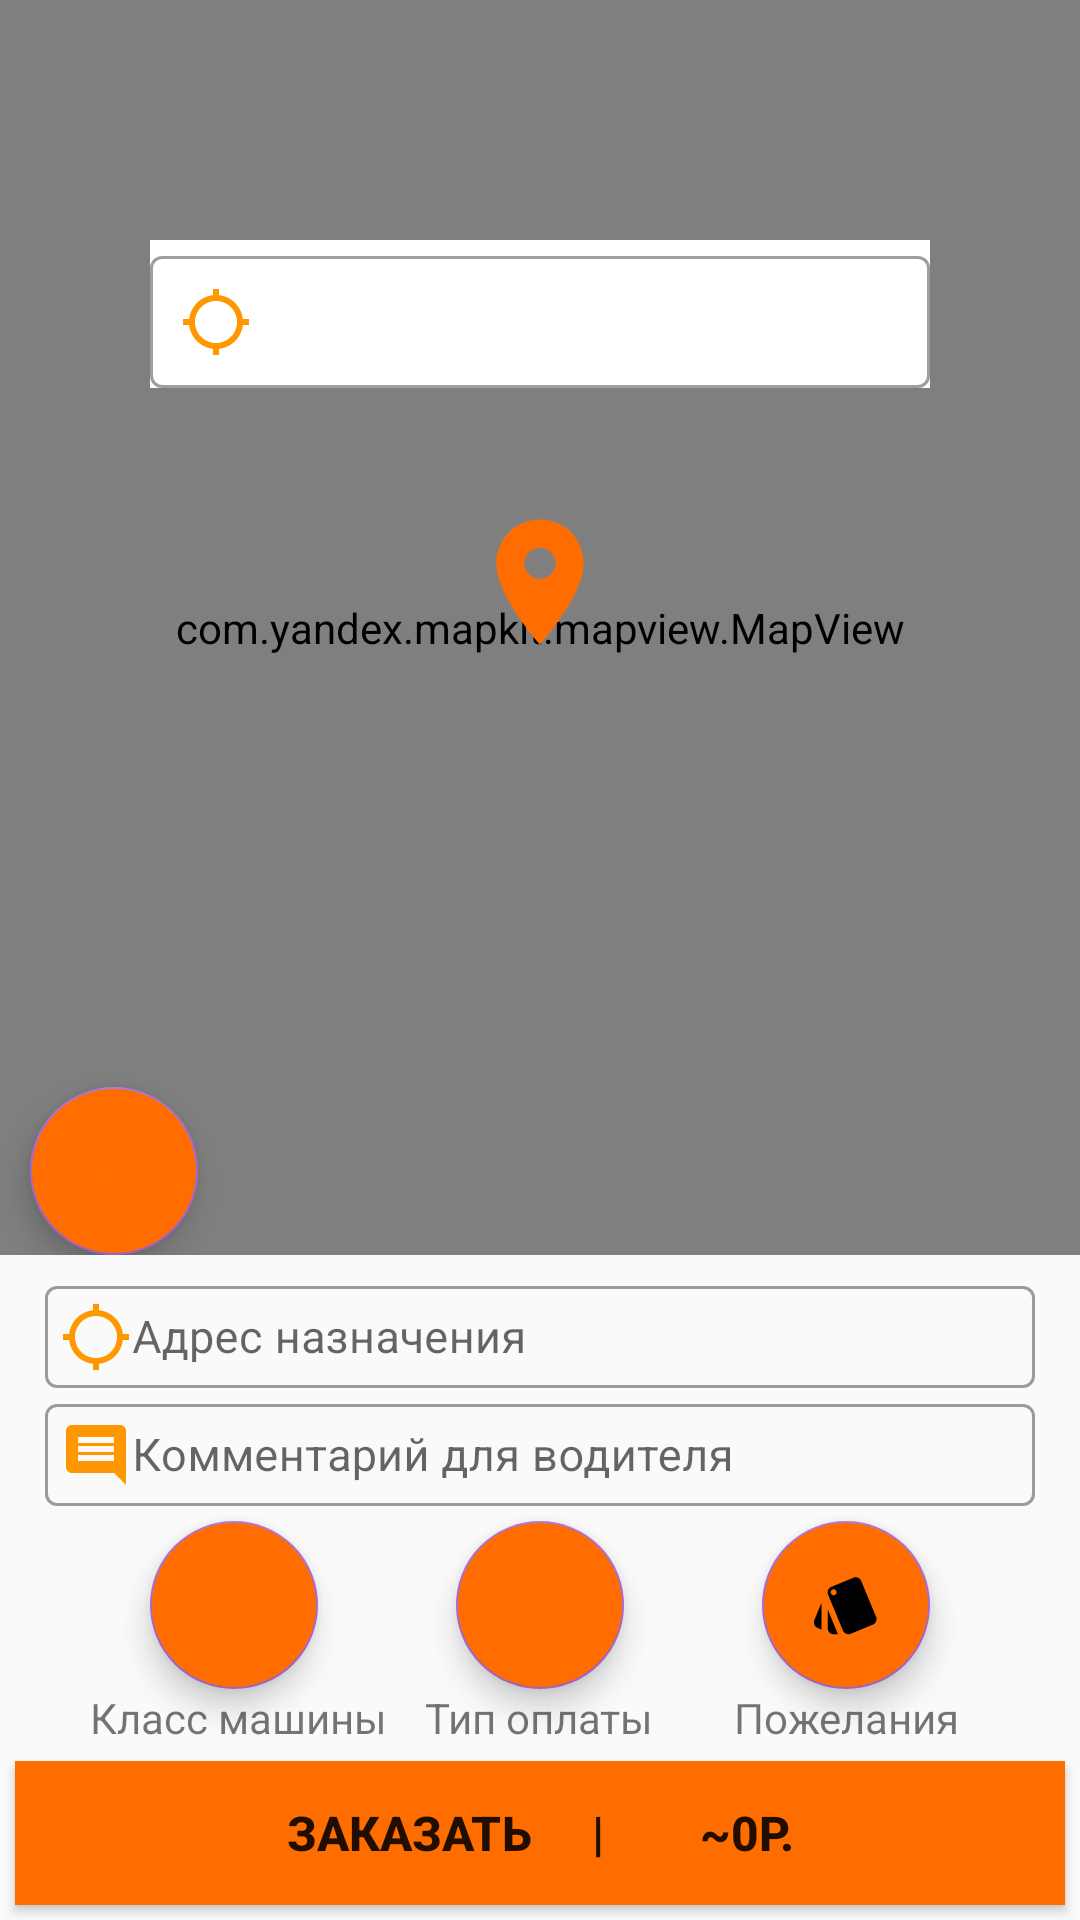

Icons on this 1080*1920 Android screen, each with its box as [x1,y1,x2,y2]:
style: [762,1521,930,1689]
